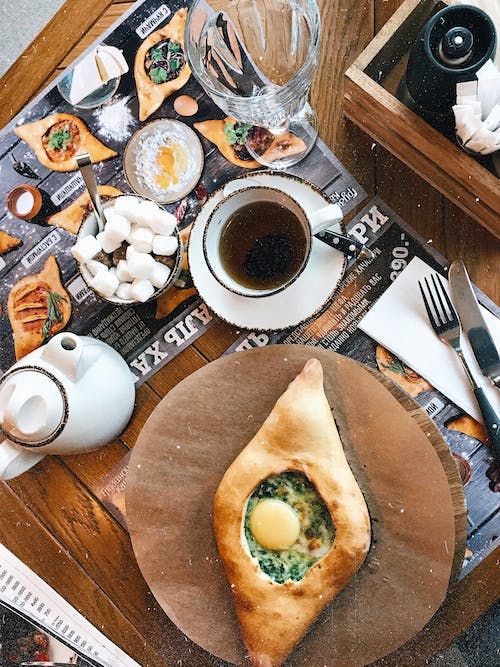knife: (446, 257, 500, 393)
